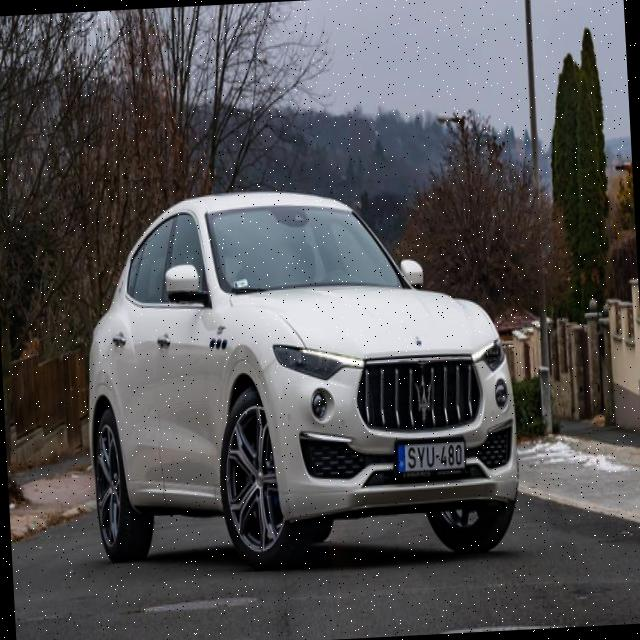licence: (394, 436, 468, 479)
